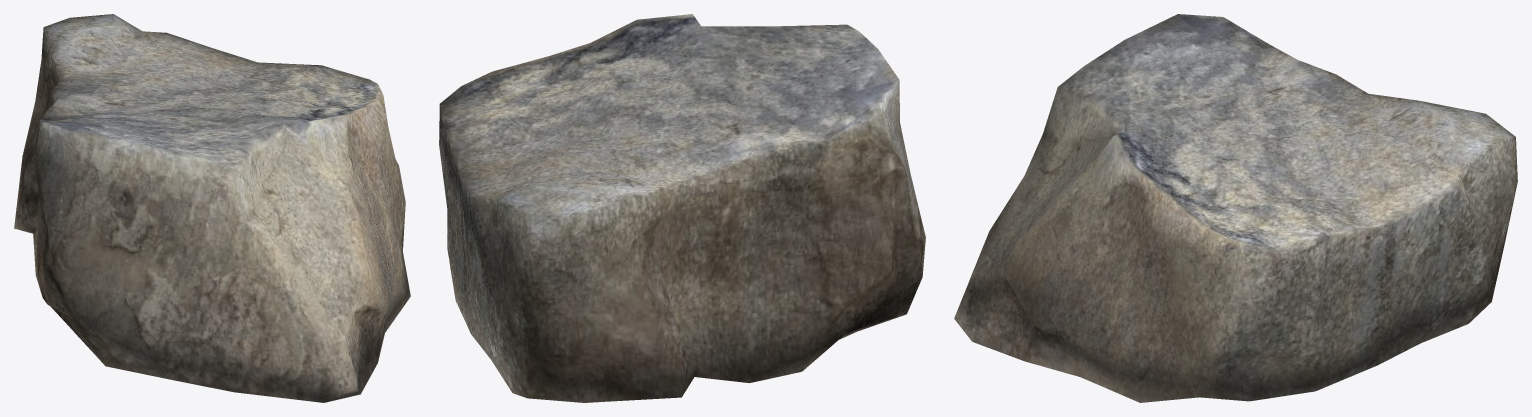
Rendered from rock-b.glb.
3 renders of one model, left to right at view 1: azimuth 30°, elevation 25°; view 2: azimuth 150°, elevation 25°; view 3: azimuth 270°, elevation 25°, orthographic. The views are drawn at different scales.
Visible parts, largest first — view 1: rock-b; view 2: rock-b; view 3: rock-b.
Part boxes in pixels (<box>): rock-b: <box>14,14,410,402</box>; rock-b: <box>439,14,925,402</box>; rock-b: <box>954,14,1517,402</box>.
Size of the model in its own units: 1.56 by 0.9464 by 2.
1 material, 1 textured.
